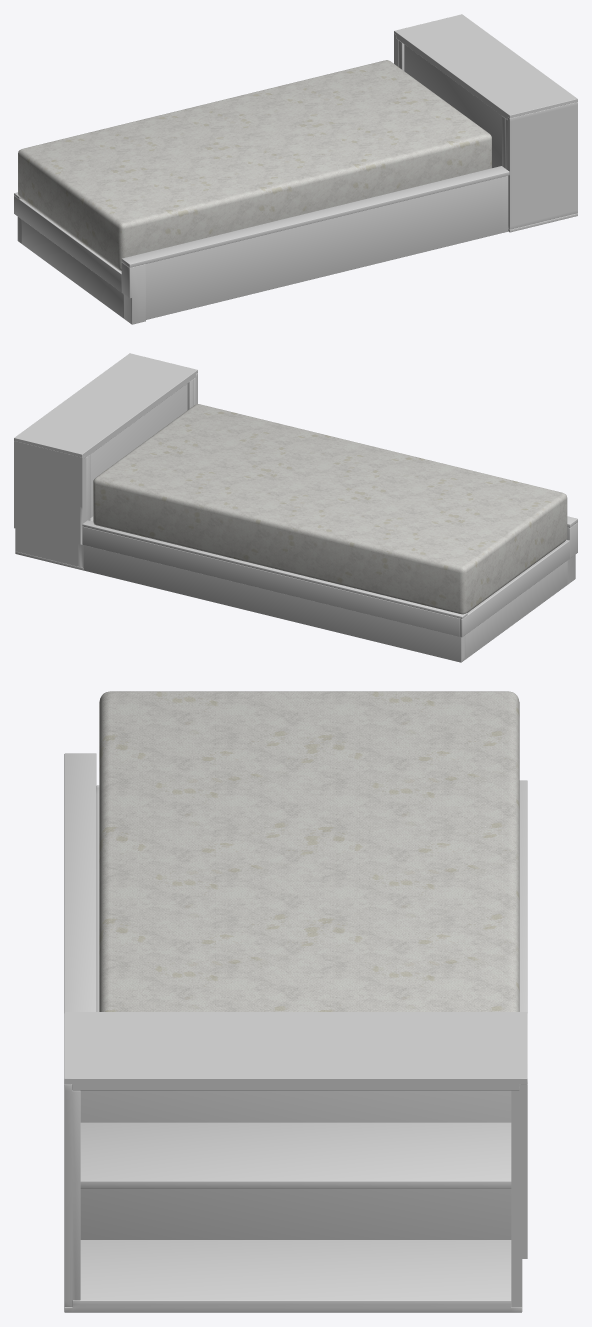
File: twin-Portfolio.glb
The picture shows the model from 3 angles, top to bottom: view 1: azimuth 30°, elevation 25°; view 2: azimuth 150°, elevation 25°; view 3: azimuth 270°, elevation 25°; orthographic projection. The views are drawn at different scales.
Parts seen in each view (by area): view 1: mattresses, twin.003, twin, twin.020, twin.004, twin.015, twin.002, twin.010, twin.006; view 2: mattresses, twin.001, twin, twin.014, twin.009, twin.015, twin.002, twin.010, twin.013, twin.006; view 3: mattresses, twin.015, twin, twin.018, twin.019, twin.004, twin.020, twin.014, twin.013, twin.007.
Boxes of the visible parts, x1,y1,x2,y2 form: mattresses: (18, 60, 491, 270); twin.003: (146, 175, 508, 319); twin: (394, 14, 577, 119); twin.020: (506, 102, 577, 229); twin.004: (121, 166, 509, 267); twin.015: (404, 44, 501, 167); twin.002: (21, 220, 123, 318); twin.010: (14, 195, 121, 292); twin.006: (121, 262, 145, 324); mattresses: (93, 404, 567, 614); twin.001: (83, 545, 465, 662); twin: (14, 353, 197, 458); twin.014: (14, 441, 86, 567); twin.009: (82, 526, 459, 636); twin.015: (90, 383, 187, 517); twin.002: (465, 560, 567, 659); twin.010: (460, 540, 569, 637); twin.013: (82, 520, 467, 618); twin.006: (567, 522, 577, 584); mattresses: (99, 691, 519, 1011); twin.015: (80, 1090, 511, 1239); twin: (64, 1012, 527, 1090); twin.018: (64, 1240, 522, 1312); twin.019: (80, 1122, 511, 1188); twin.004: (64, 753, 96, 1011); twin.020: (64, 1084, 80, 1306); twin.014: (511, 1084, 527, 1307); twin.013: (519, 780, 527, 1011); twin.007: (96, 787, 99, 1011).
Bounding box in the file's own units: 2.44 × 0.6096 × 1.09.
Materials: 2 (1 with a texture image).
